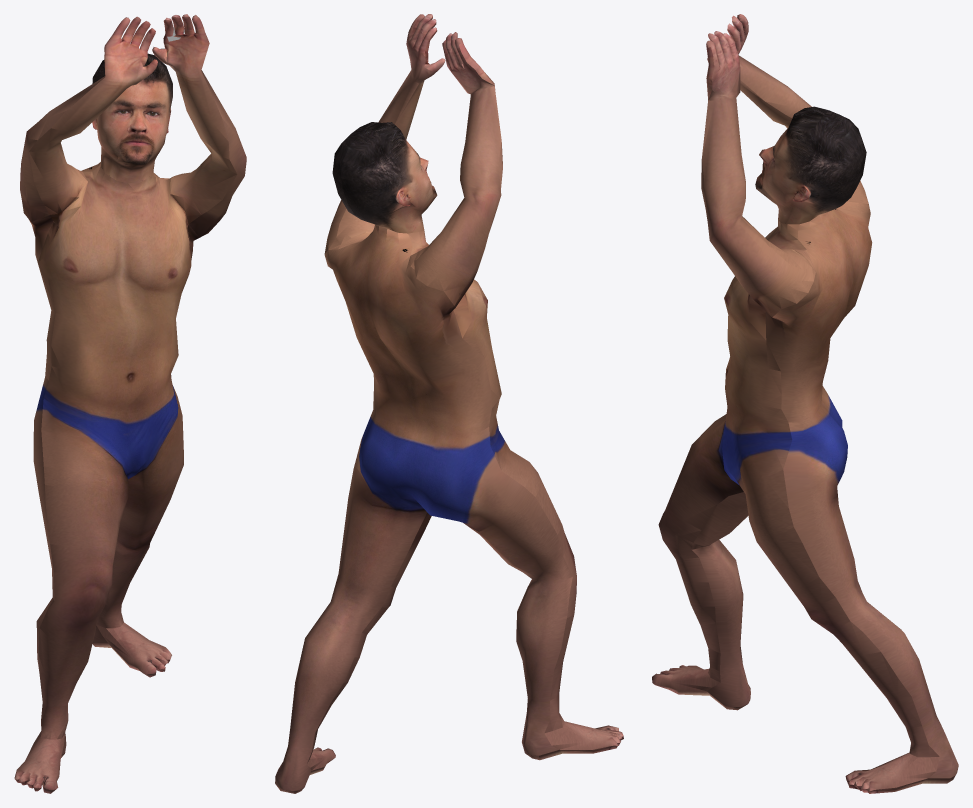
Rendered from man3.FBX.
The picture shows the model from 3 angles, left to right: view 1: azimuth 30°, elevation 25°; view 2: azimuth 150°, elevation 25°; view 3: azimuth 270°, elevation 25°; orthographic projection. The views are drawn at different scales.
Parts seen in each view (by area): view 1: SMan0004-G; view 2: SMan0004-G; view 3: SMan0004-G.
Part boxes in pixels (<box>): SMan0004-G: <box>14,14,246,793</box>; SMan0004-G: <box>275,14,623,793</box>; SMan0004-G: <box>652,14,958,793</box>.
Bounding box in the file's own units: 0.6848 × 1.87 × 0.7091.
